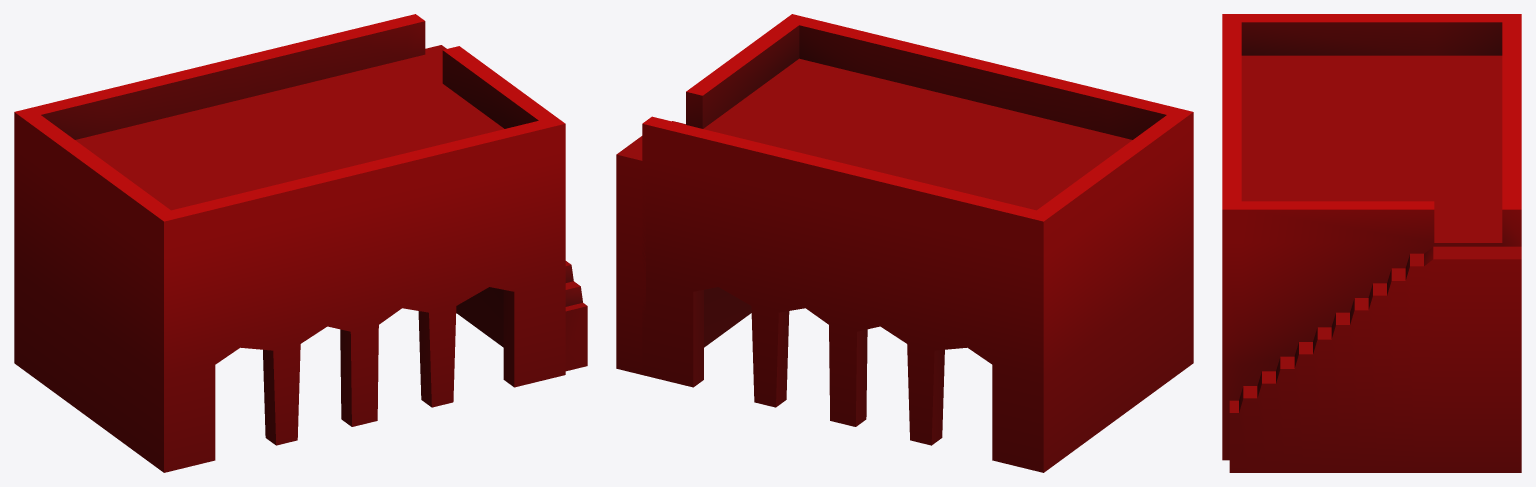
Rendered from buildings-historical-desertbuildingold_v7.fbx.
The picture shows the model from 3 angles, left to right: view 1: azimuth 30°, elevation 25°; view 2: azimuth 150°, elevation 25°; view 3: azimuth 270°, elevation 25°; orthographic projection.
Visible parts, largest first — view 1: DesertBuildingOld_v7; view 2: DesertBuildingOld_v7; view 3: DesertBuildingOld_v7.
Boxes of the visible parts, x1,y1,x2,y2 form: DesertBuildingOld_v7: (14, 14, 587, 472); DesertBuildingOld_v7: (616, 14, 1193, 472); DesertBuildingOld_v7: (1222, 14, 1521, 472).
Bounding box in the file's own units: 11.17 × 6.28 × 6.79.
